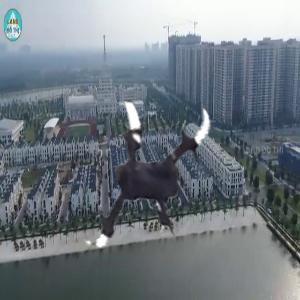drone: (49, 75, 233, 259)
